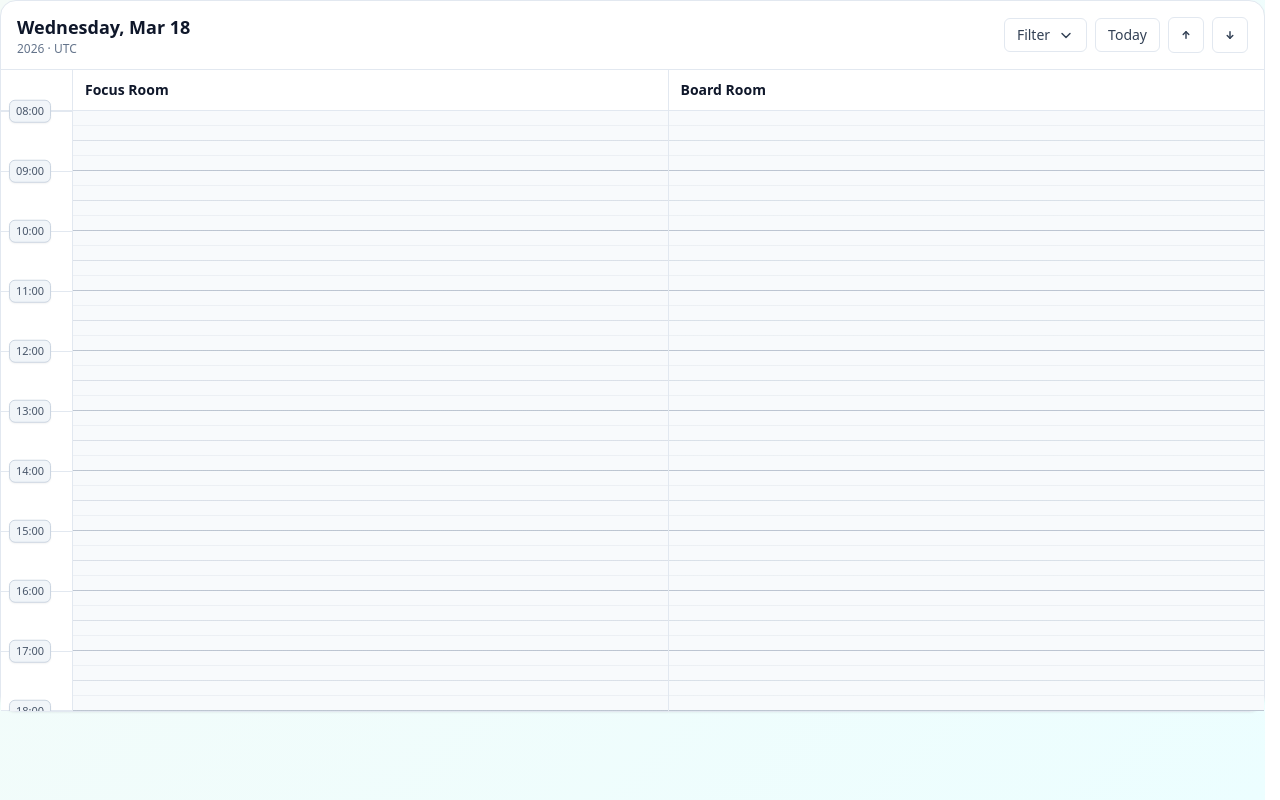
Scenario: DaySchedule › toggles room visibility from the filter menu without persisting it
The width and height of the screenshot is (1280, 800).
Expected: the button named "Create booking in Focus Room" is shown, [73,111,668,711]
Expected: the button named "Create booking in Board Room" is shown, [668,111,1264,711]
Click the button "Filter": (1046,35) [1004,18,1087,52]
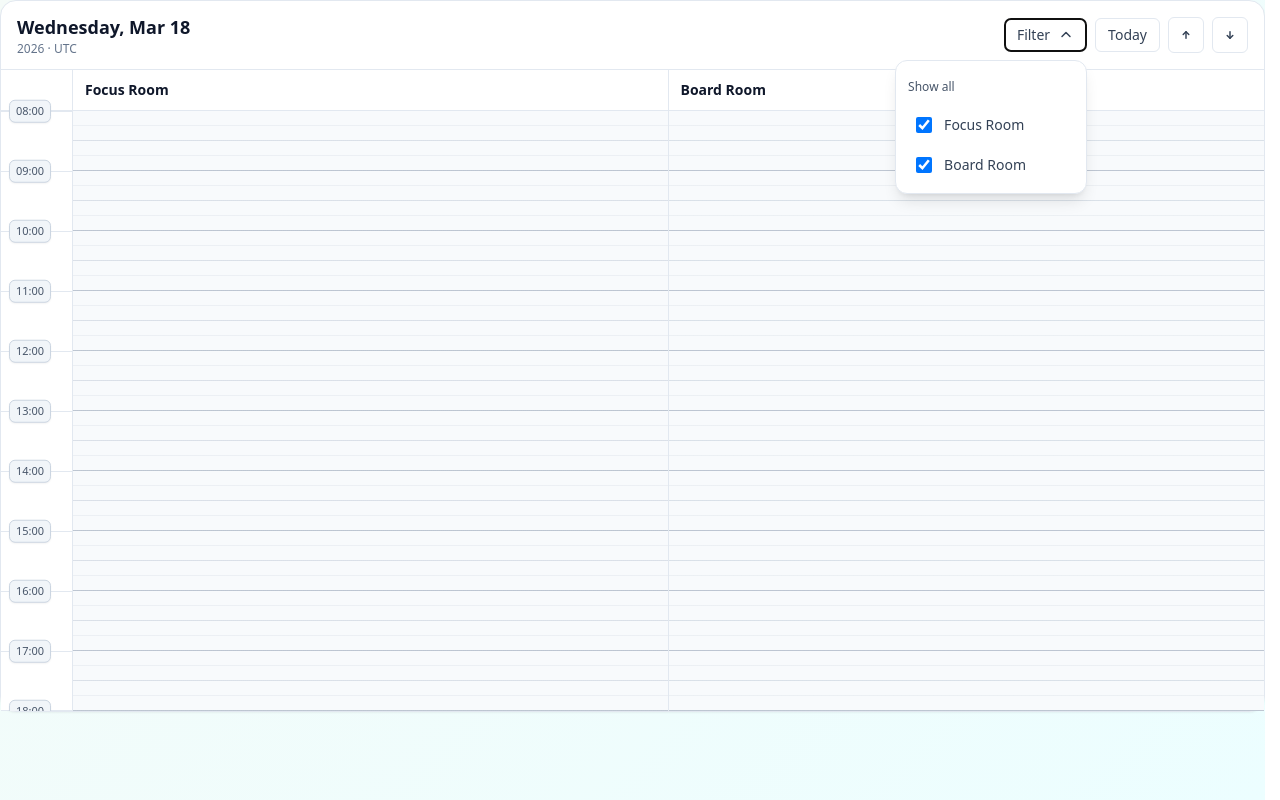
Click the checkbox labelled "Board Room": (924,165) [916,157,932,173]
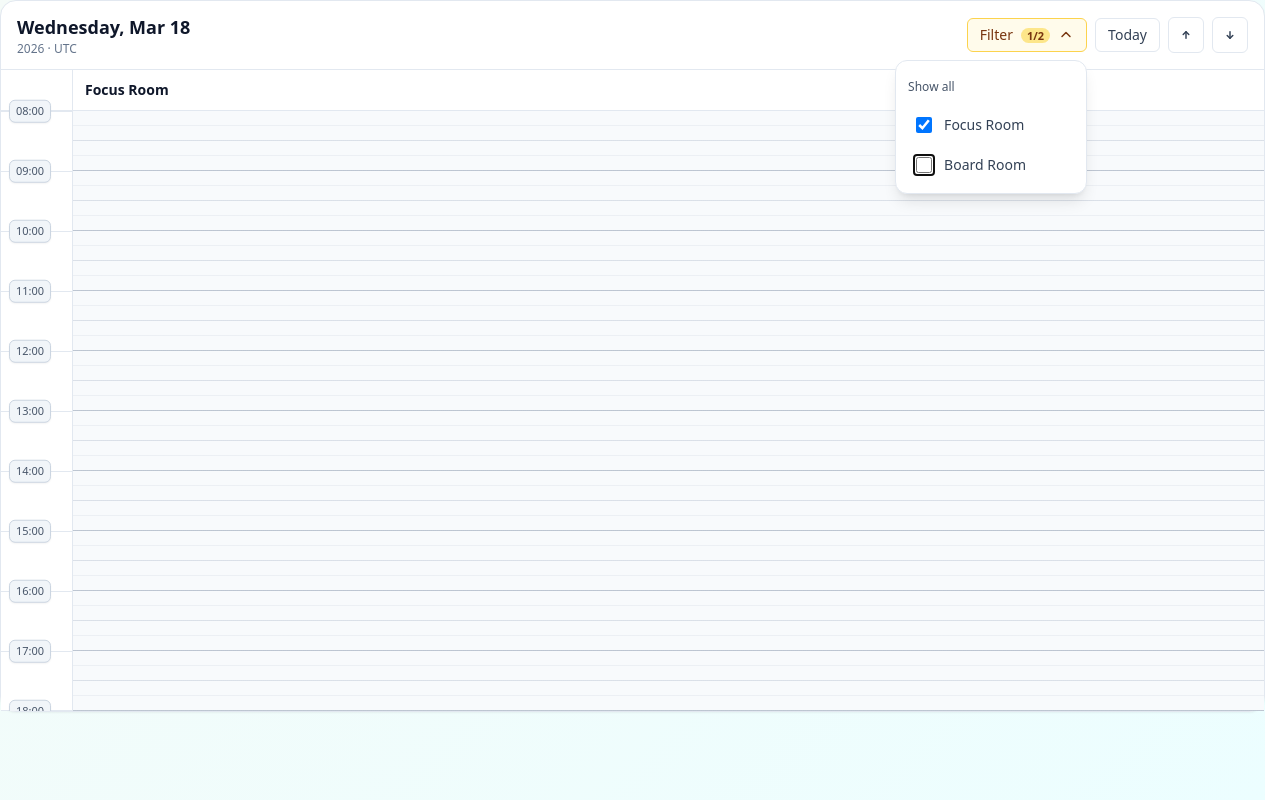
Expected: the button "Filter 1/2" is shown, [967,18,1087,52]
